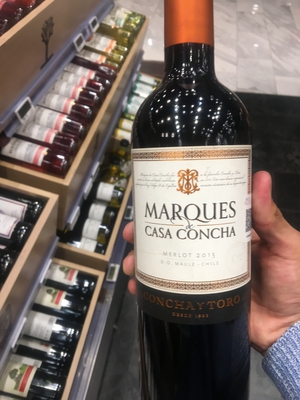marques de casa concha merlot: (113, 18, 279, 367)
